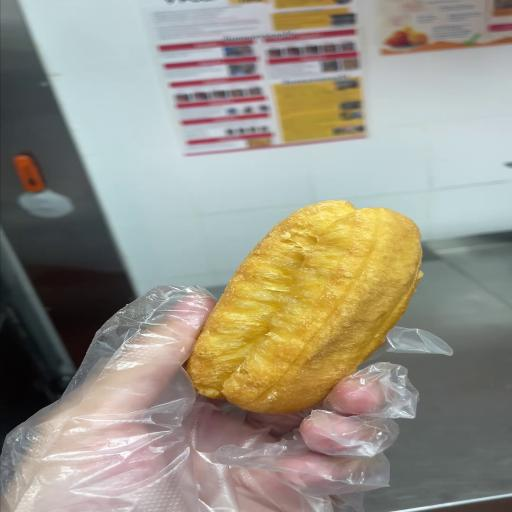brand_golden_good: (188, 201, 421, 414)
